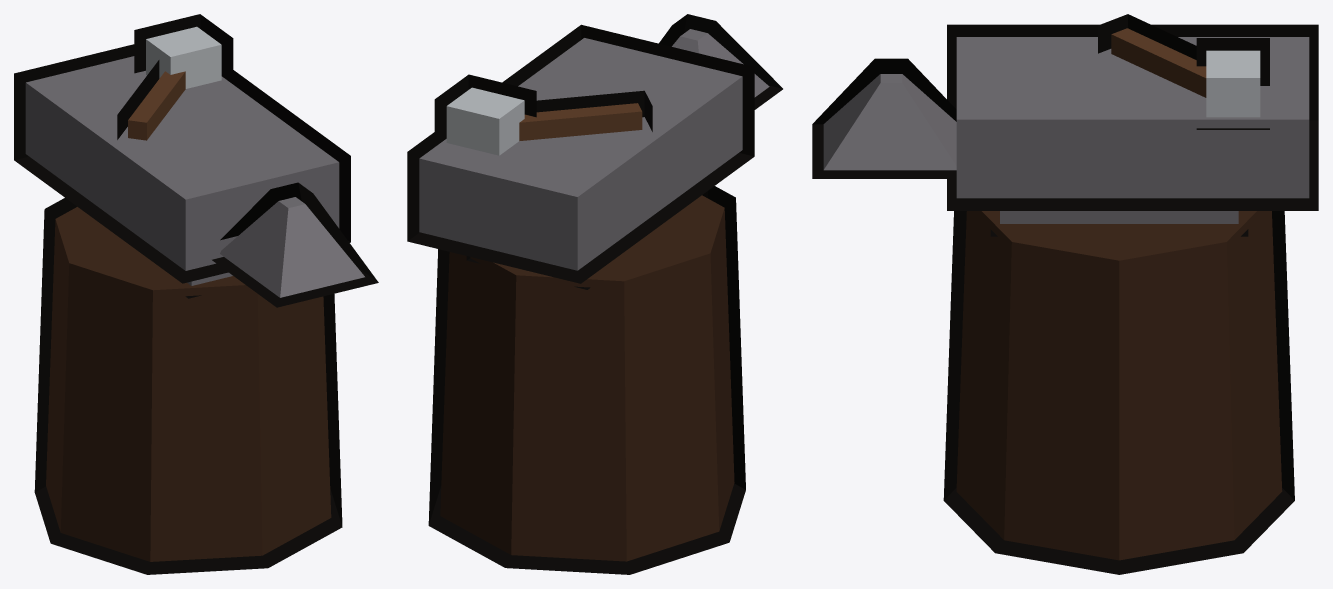
File: anvil.glb
3 renders of one model, left to right at view 1: azimuth 30°, elevation 25°; view 2: azimuth 150°, elevation 25°; view 3: azimuth 270°, elevation 25°, orthographic. The views are drawn at different scales.
Visible parts, largest first — view 1: Prop_hearth_anvil; view 2: Prop_hearth_anvil; view 3: Prop_hearth_anvil.
Boxes of the visible parts, x1,y1,x2,y2 form: Prop_hearth_anvil: (14,14,378,574); Prop_hearth_anvil: (407,14,782,574); Prop_hearth_anvil: (812,14,1318,574).
Bounding box in the file's own units: 0.6472 × 0.9559 × 0.9331.
